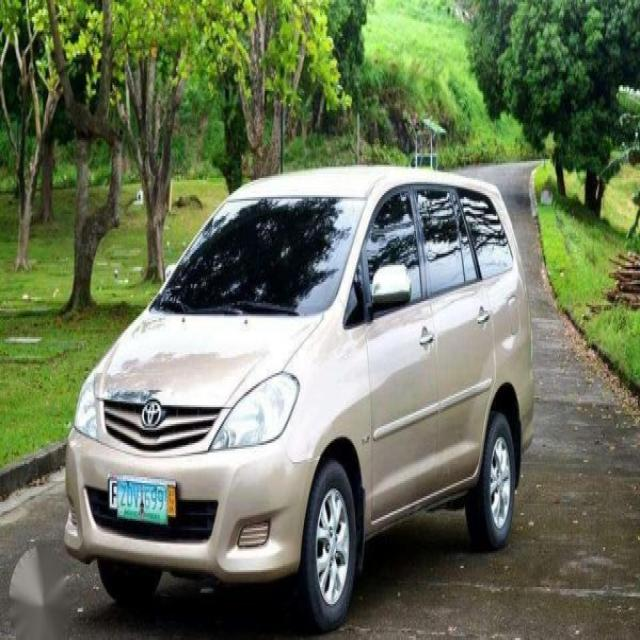light_vehicle: (64, 162, 537, 629)
